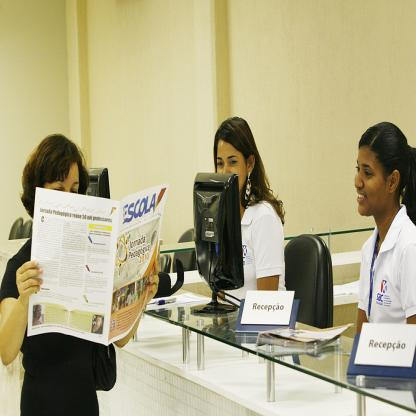book: (26, 185, 167, 339)
